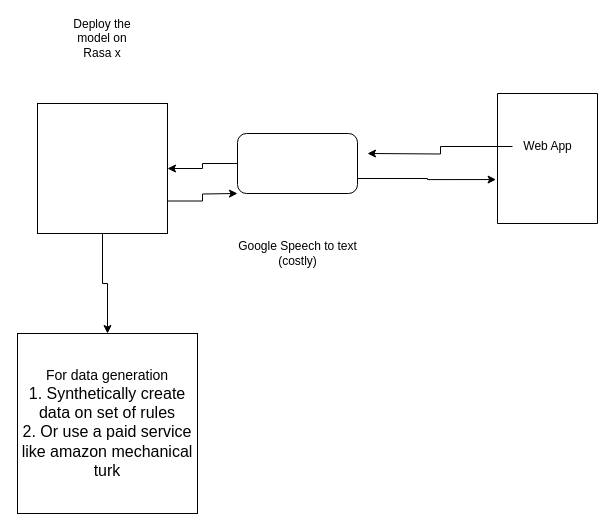
Some shapes in this 615 by 531 pixel diagram are drawn without their labels. The box of each missing label's shape, as (x1, y1, x2, y2) in pixels:
RASA: (36, 102, 168, 234)
Web Speech API: (236, 132, 358, 194)
